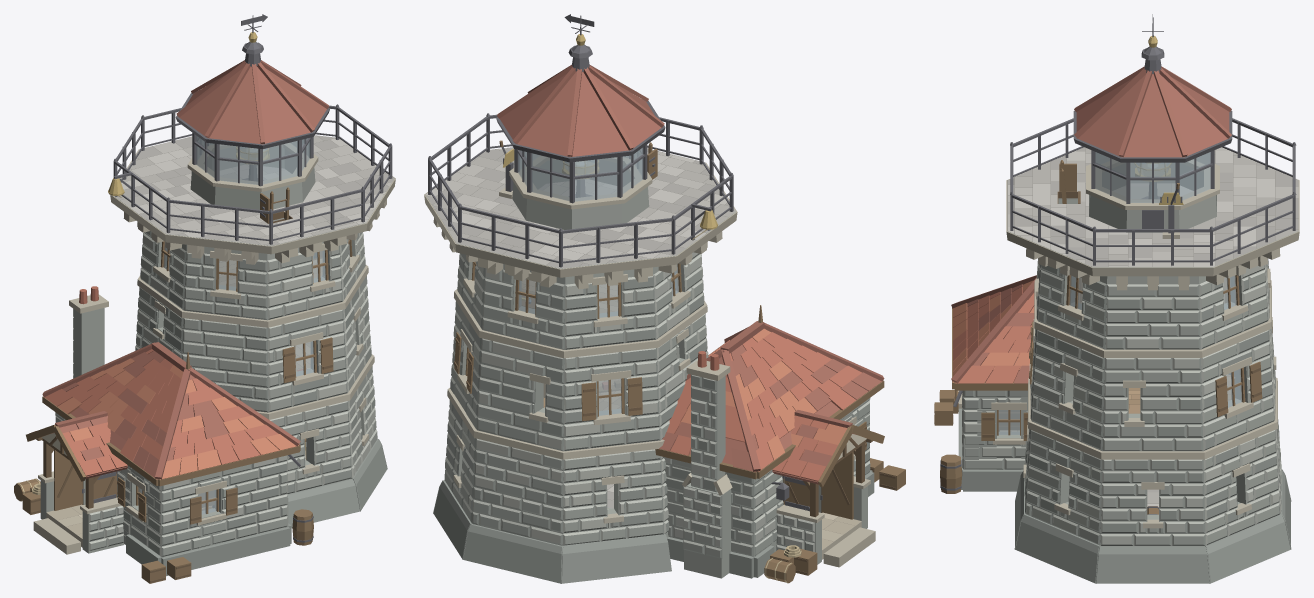
The model's file is lastlight.glb.
3 views of the same model, side by side, from view 1: azimuth 30°, elevation 25°; view 2: azimuth 150°, elevation 25°; view 3: azimuth 270°, elevation 25° (orthographic). The views are drawn at different scales.
Parts seen in each view (by area): view 1: Lastlight_Roof, Lastlight_UpperShellKeeper, Lastlight_ShellWing, Lastlight_UpperFloorGalleryTiles, Lastlight_UpperShellWatch, Lastlight_UpperGallery, Lastlight_ShellTower, Lastlight_UpperLantern, Lastlight_ShellPlinth, Lastlight_ShellPorch, Lastlight_GlazingLantern, Lastlight_UpperShellString (+7 smaller); view 2: Lastlight_Roof, Lastlight_UpperShellKeeper, Lastlight_ShellTower, Lastlight_UpperFloorGalleryTiles, Lastlight_UpperShellWatch, Lastlight_UpperGallery, Lastlight_ShellPlinth, Lastlight_UpperLantern, Lastlight_ShellWing, Lastlight_UpperShellString, Lastlight_GlazingLantern, Lastlight_ShellPorch (+6 smaller); view 3: Lastlight_UpperShellKeeper, Lastlight_ShellTower, Lastlight_Roof, Lastlight_UpperFloorGalleryTiles, Lastlight_UpperShellWatch, Lastlight_ShellPlinth, Lastlight_UpperGallery, Lastlight_UpperLantern, Lastlight_ShellWing, Lastlight_UpperShellString, Lastlight_GlazingLantern, Lastlight_Yard (+5 smaller).
Boxes of the visible parts, x1,y1,x2,y2 form: Lastlight_Roof: (26,14,329,486); Lastlight_UpperShellKeeper: (135,252,371,412); Lastlight_ShellWing: (55,412,291,576); Lastlight_UpperFloorGalleryTiles: (114,135,394,245); Lastlight_UpperShellWatch: (140,231,365,320); Lastlight_UpperGallery: (108,104,395,264); Lastlight_ShellTower: (270,366,377,494); Lastlight_UpperLantern: (187,133,318,209); Lastlight_ShellPlinth: (287,439,387,527); Lastlight_ShellPorch: (36,437,124,553); Lastlight_GlazingLantern: (196,135,310,184); Lastlight_UpperShellString: (137,265,374,419); Lastlight_Roof: (496,14,884,578); Lastlight_UpperShellKeeper: (450,301,708,451); Lastlight_ShellTower: (444,400,669,545); Lastlight_UpperFloorGalleryTiles: (425,147,735,268); Lastlight_UpperShellWatch: (457,252,704,349); Lastlight_UpperGallery: (424,113,737,289); Lastlight_ShellPlinth: (433,480,671,583); Lastlight_UpperLantern: (509,144,652,229); Lastlight_ShellWing: (664,398,874,578); Lastlight_UpperShellString: (447,289,707,459); Lastlight_GlazingLantern: (518,148,643,201); Lastlight_ShellPorch: (776,438,872,564); Lastlight_UpperShellKeeper: (1029,317,1276,451); Lastlight_ShellTower: (1023,419,1281,546); Lastlight_Roof: (951,14,1232,390); Lastlight_UpperFloorGalleryTiles: (1007,147,1298,266); Lastlight_UpperShellWatch: (1035,200,1270,349); Lastlight_ShellPlinth: (1014,469,1291,583); Lastlight_UpperGallery: (1006,118,1299,290); Lastlight_UpperLantern: (1086,150,1219,232); Lastlight_ShellWing: (954,390,1027,491); Lastlight_UpperShellString: (1028,280,1277,459); Lastlight_GlazingLantern: (1095,152,1210,202); Lastlight_Yard: (934,390,962,493).
Bounding box in the file's own units: 11.98 × 15.4 × 10.04.
